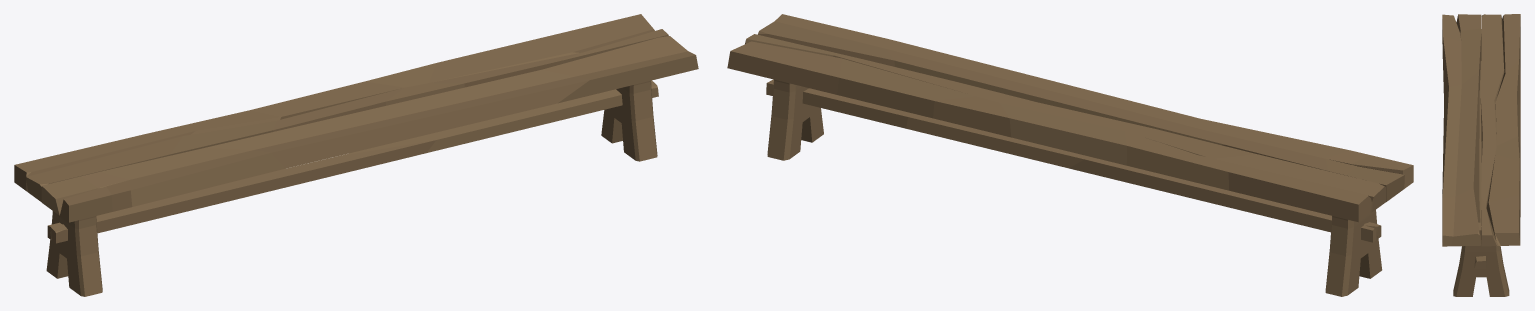
Rendered from WF_LP_HT_Props_Bench.002.fbx.
The picture shows the model from 3 angles, left to right: view 1: azimuth 30°, elevation 25°; view 2: azimuth 150°, elevation 25°; view 3: azimuth 270°, elevation 25°; orthographic projection. The views are drawn at different scales.
Visible parts, largest first — view 1: WF_LP_HT_Props_Bench.002; view 2: WF_LP_HT_Props_Bench.002; view 3: WF_LP_HT_Props_Bench.002.
Boxes of the visible parts, x1=… form: WF_LP_HT_Props_Bench.002: x1=14, y1=14, x2=698, y2=296; WF_LP_HT_Props_Bench.002: x1=727, y1=14, x2=1413, y2=296; WF_LP_HT_Props_Bench.002: x1=1442, y1=14, x2=1520, y2=296.
Bounding box in the file's own units: 3.49 × 0.5478 × 0.5235.
